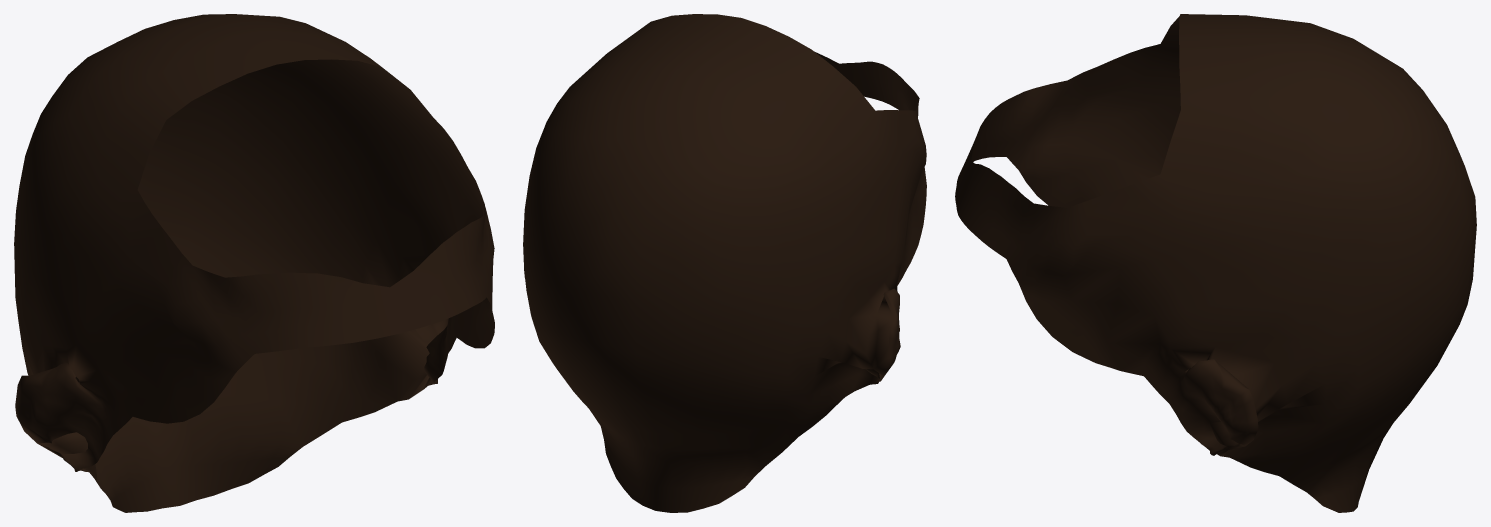
The model's file is hair_thin.glb.
The picture shows the model from 3 angles, left to right: view 1: azimuth 30°, elevation 25°; view 2: azimuth 150°, elevation 25°; view 3: azimuth 270°, elevation 25°; orthographic projection. The views are drawn at different scales.
Parts seen in each view (by area): view 1: hair_thin; view 2: hair_thin; view 3: hair_thin.
Part boxes in pixels (left/top/right/bottom): hair_thin: left=14, top=14, right=494, bottom=512; hair_thin: left=523, top=14, right=926, bottom=512; hair_thin: left=955, top=14, right=1476, bottom=512.
Bounding box in the file's own units: 0.1948 × 0.2198 × 0.2235.
